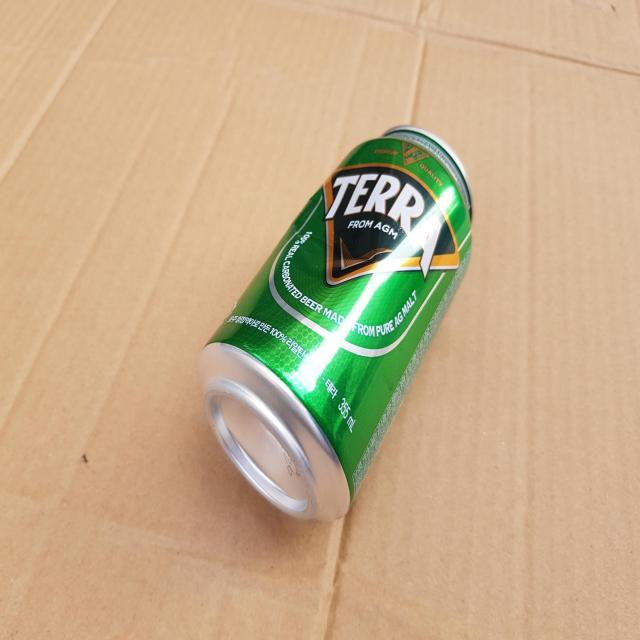can: (199, 126, 473, 521)
